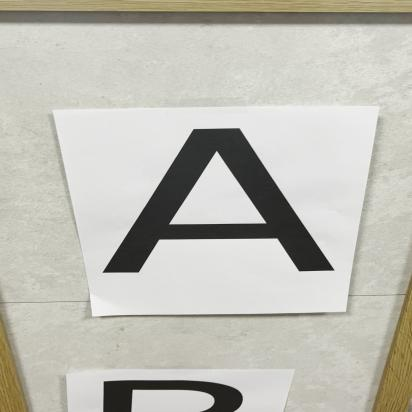seat: (103, 123, 322, 288)
